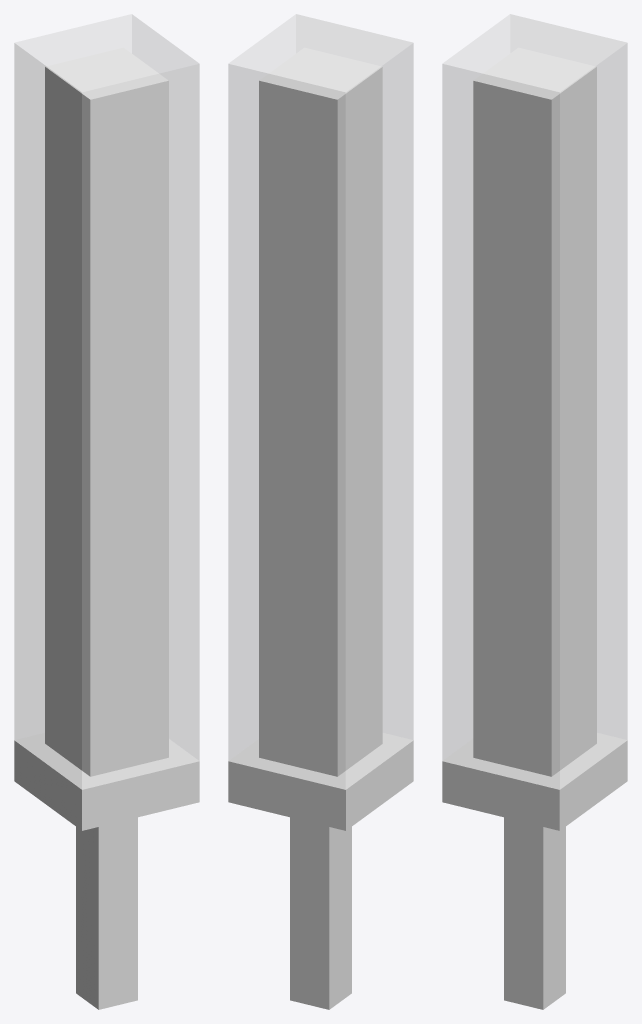
Rendered from laser_blade.obj.
The picture shows the model from 3 angles, left to right: view 1: azimuth 30°, elevation 25°; view 2: azimuth 150°, elevation 25°; view 3: azimuth 330°, elevation 25°; orthographic projection.
Parts seen in each view (by area): view 1: blade_outer_2, blade_outer_mode_1, hilt, blade_outer_1; view 2: blade_outer_2, blade_outer_mode_1, hilt, blade_outer_1; view 3: blade_outer_2, blade_outer_mode_1, hilt, blade_outer_1.
Part boxes in pixels (x1,y1,x2,y2): blade_outer_2: (14, 14, 199, 789); blade_outer_mode_1: (45, 47, 168, 776); hilt: (14, 733, 199, 1009); blade_outer_1: (52, 51, 168, 771); blade_outer_2: (228, 14, 413, 789); blade_outer_mode_1: (259, 47, 382, 776); hilt: (228, 733, 413, 1009); blade_outer_1: (268, 49, 382, 773); blade_outer_2: (442, 14, 627, 789); blade_outer_mode_1: (473, 47, 596, 776); hilt: (442, 733, 627, 1009); blade_outer_1: (477, 50, 596, 773).
Size of the model in its own units: 0.1876 by 1.44 by 0.1876.
